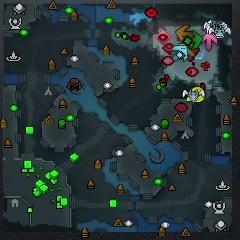p4: (186, 86, 205, 102)
x1: (202, 32, 218, 52)
x2: (179, 42, 194, 58)
x3: (173, 44, 188, 61)
x4: (186, 29, 204, 49)
x5: (176, 24, 194, 41)
